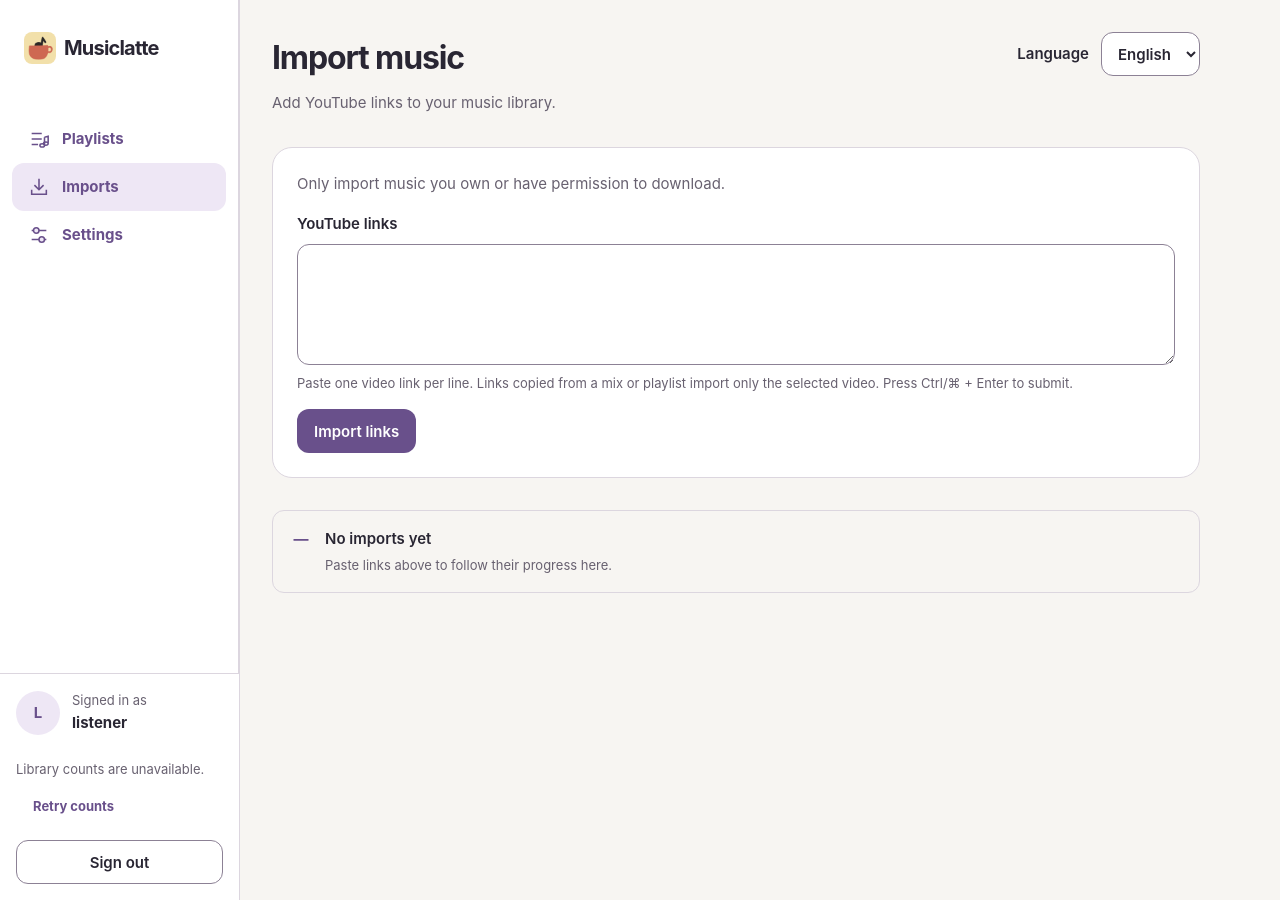
Scenario: imports route and durable job UI › should submit the selected video from a radio link without playlist context
The image size is (1280, 900).
Type "https://www.youtube.com/watch?v=s3_uirvnSdI&list=RDVf2PhH7d7j0&index=20" into the text box labelled "YouTube links".
click(736, 304); type("https://www.youtube.com/watch?v=s3_uirvnSdI&list=RDVf2PhH7d7j0&index=20")  # box [297,244,1175,365]
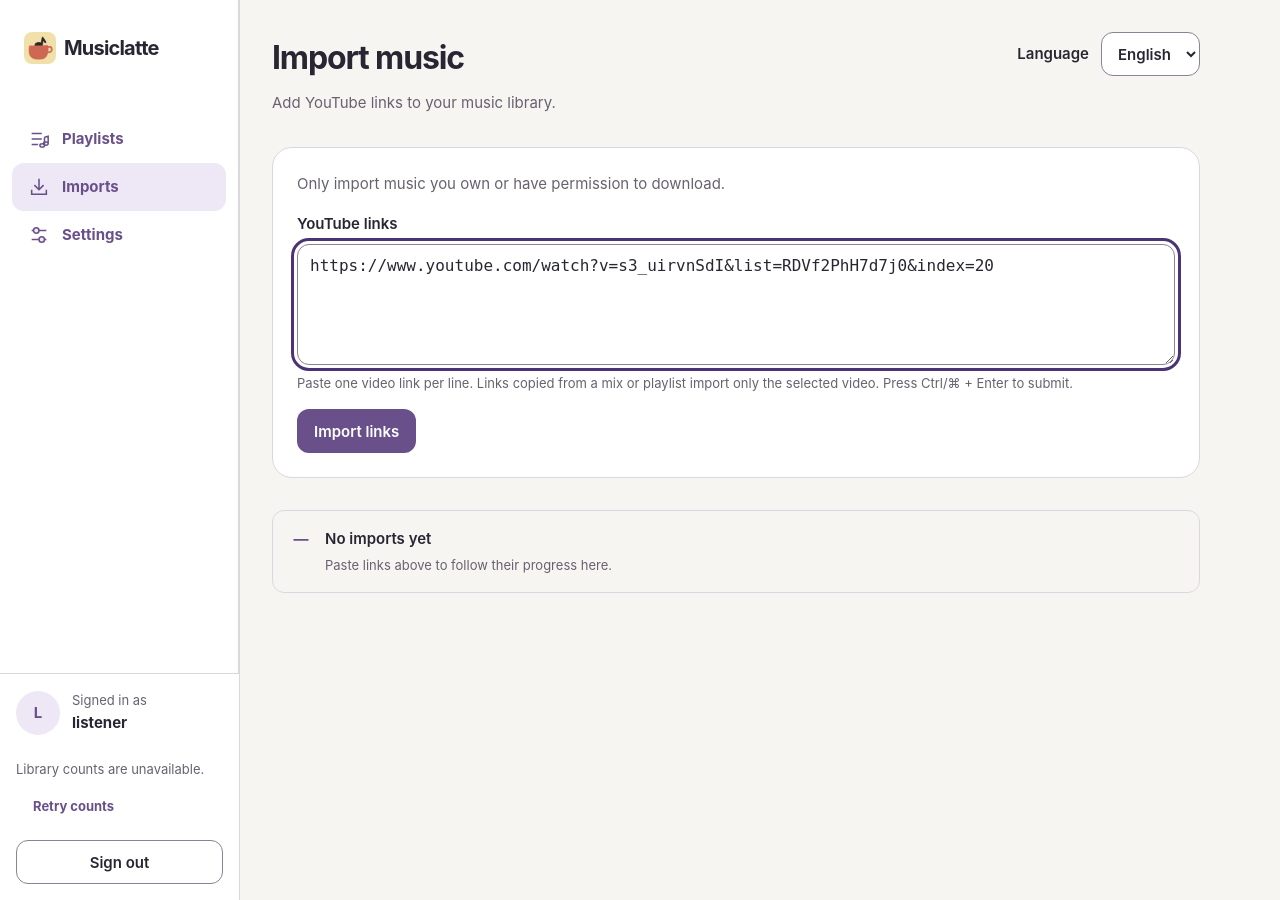
Click the button "Import links".
click(357, 431)  # box [297,409,416,453]
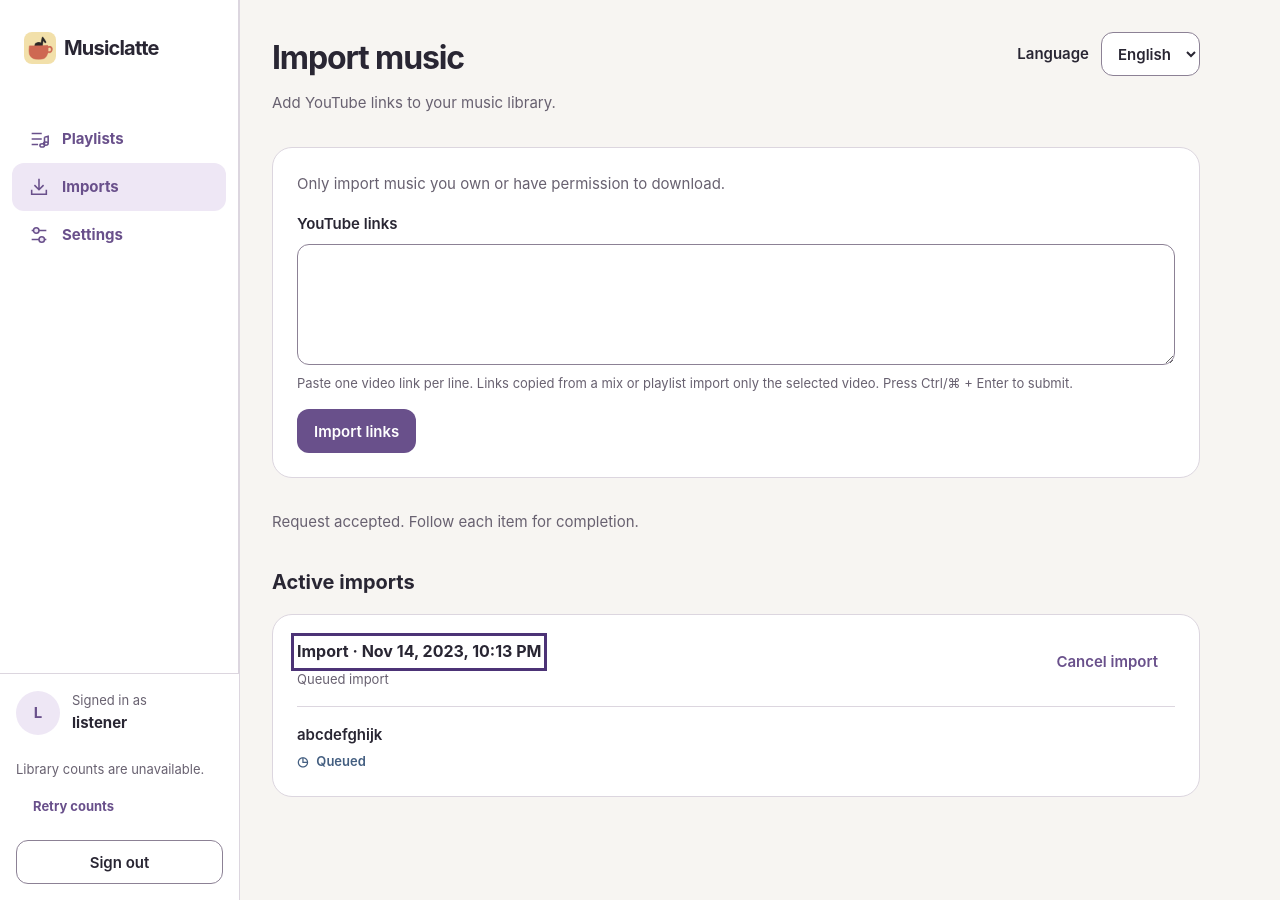
Now the text "Queued" is shown, box [316,751,366,772]
